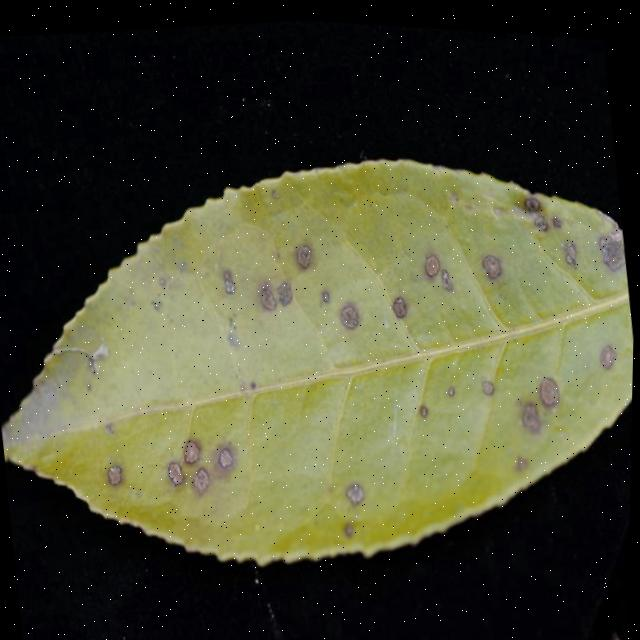Tea red rust: (23, 126, 618, 590)
